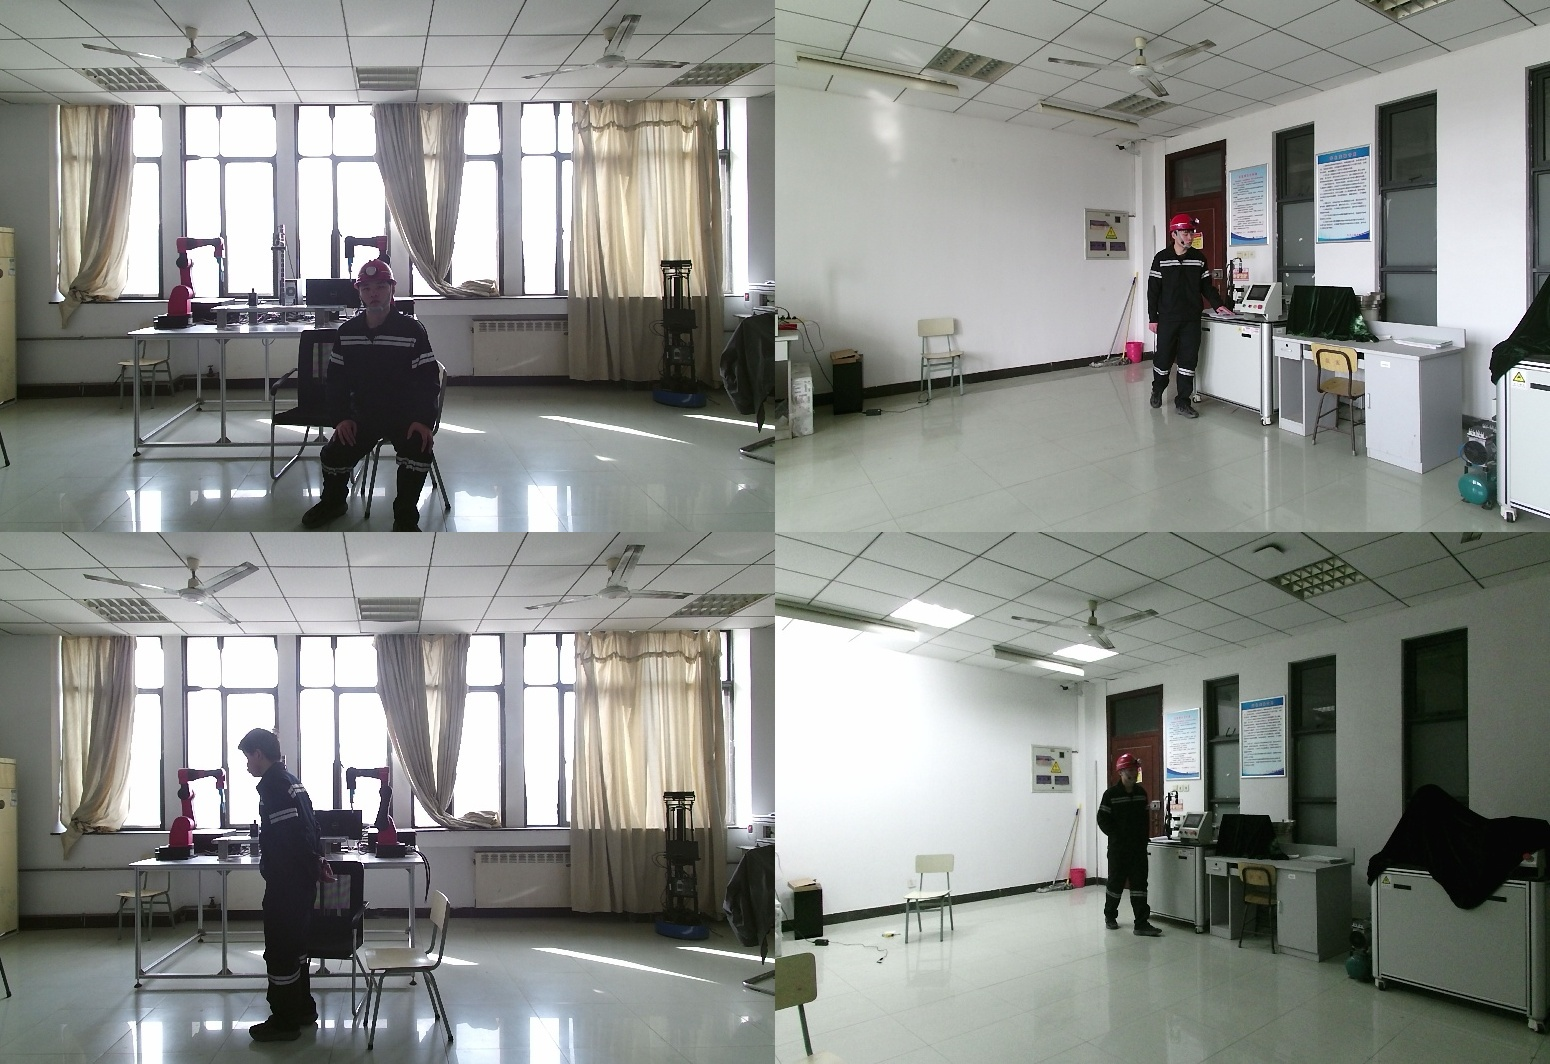person: (308, 260, 455, 532), (238, 728, 336, 1039), (1143, 215, 1226, 420), (1085, 757, 1165, 941)
